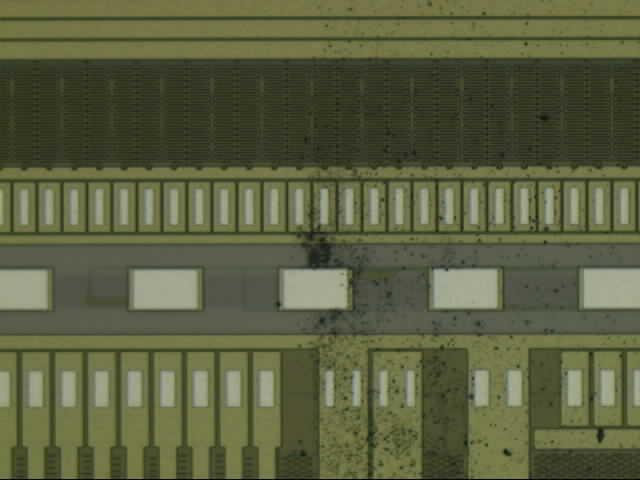PO CONTAMINATION: (291, 1, 640, 480)
